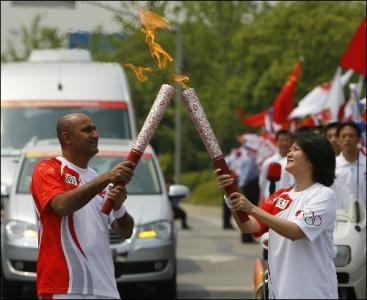fire: (132, 4, 189, 85)
